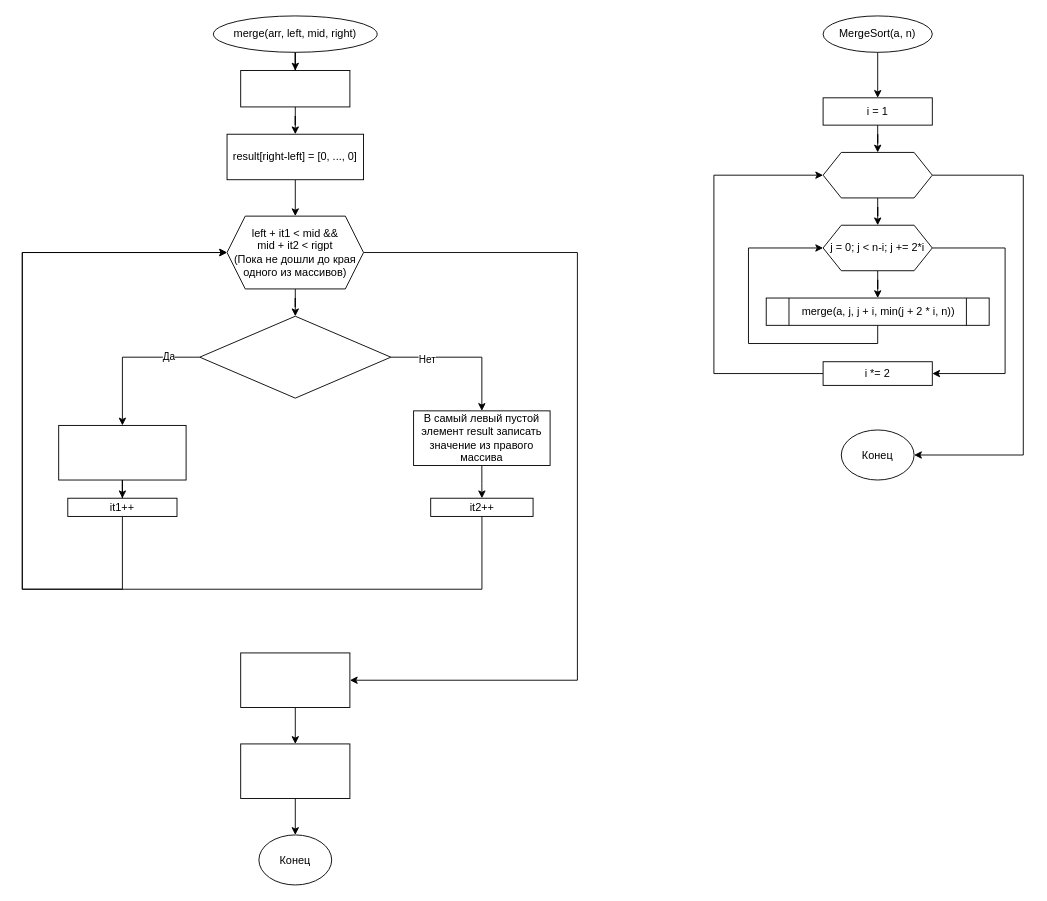
This 1047x901 diagram has some shape labels left out. Here are the shapes that lost their labels. From the top down, the centre of each, then its label:
At (x=295, y=88): "it1 = 0 it2 = 0".
At (x=877, y=175): "i < n".
At (x=295, y=356): "элемент из левого массива < элемента из правого".
At (x=122, y=452): "В самый левый пустой элемент result записать значение из левого массива".
At (x=295, y=680): "Дополнить result значениями из непустого массива".
At (x=295, y=771): "Записать значения result в arr, начиная с индекса left".
